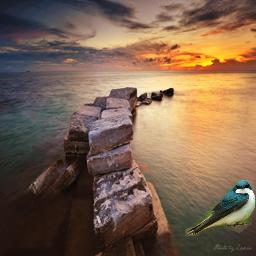Swallow: (185, 180, 256, 236)
